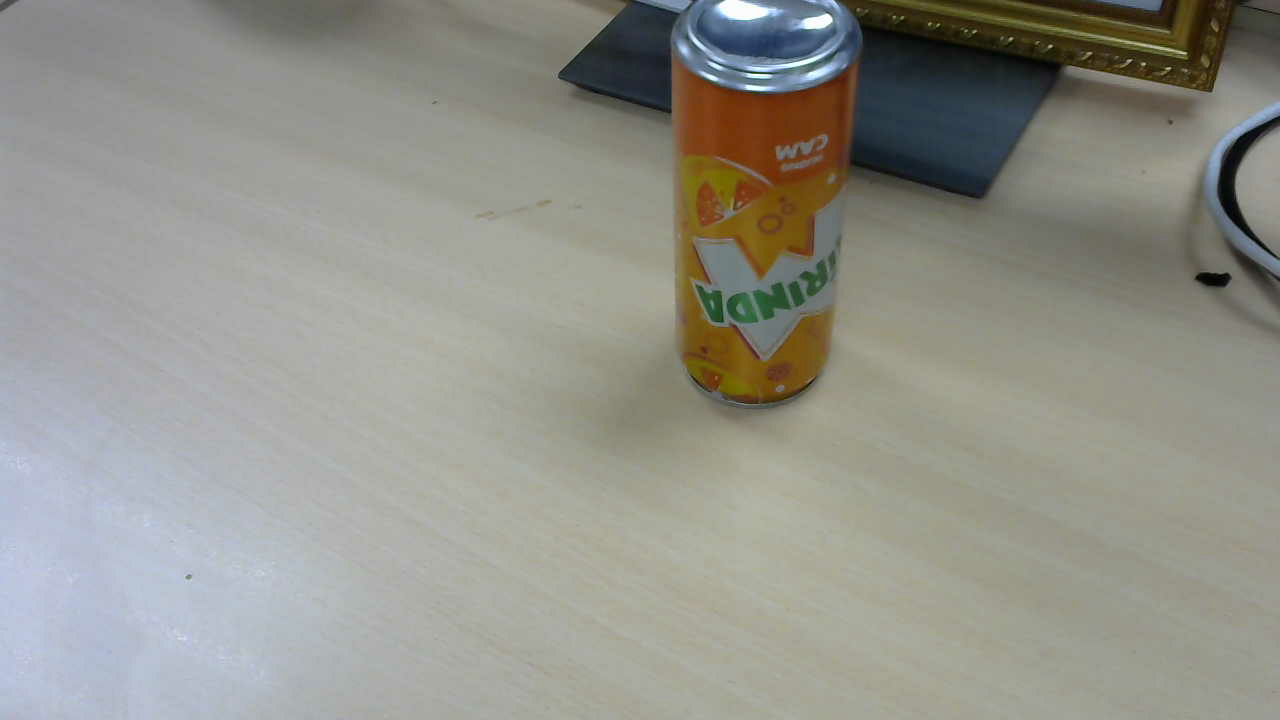Mirinda: (671, 7, 866, 409)
